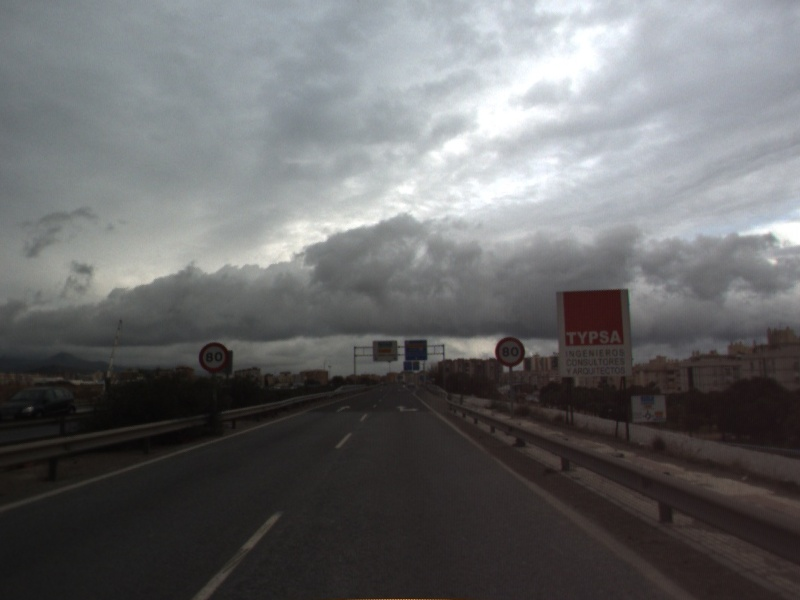STRAIGHT: (333, 403, 353, 414)
STRAIGHT_RIGHT: (394, 403, 421, 414)
